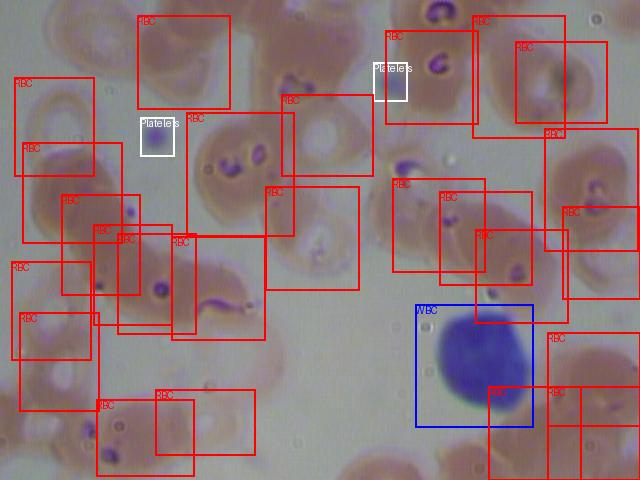Platelets: (140, 117, 174, 156), (373, 62, 407, 101)
RBC: (186, 112, 294, 236), (544, 128, 638, 251), (472, 15, 565, 138), (22, 142, 122, 243), (171, 236, 265, 340), (265, 186, 359, 290), (475, 229, 568, 323), (439, 191, 532, 285), (392, 178, 485, 272), (547, 332, 640, 426), (547, 386, 640, 480), (488, 386, 581, 480), (137, 15, 230, 109), (385, 30, 478, 124), (61, 194, 140, 295), (93, 224, 172, 325), (117, 233, 196, 334), (11, 261, 91, 360), (19, 312, 99, 411), (14, 77, 94, 176), (96, 399, 194, 476), (281, 94, 373, 176), (515, 41, 607, 123), (562, 206, 640, 299), (155, 389, 255, 455)
WBC: (415, 304, 533, 427)
